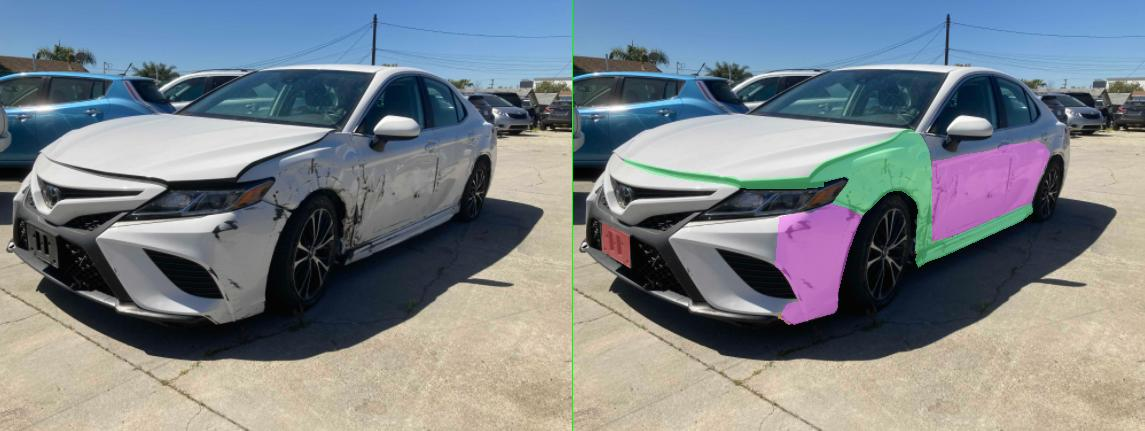Broken part: (468, 129, 725, 251), (685, 203, 919, 267), (102, 158, 500, 188)
Dent: (719, 141, 953, 242), (404, 201, 579, 324)
Missing part: (58, 223, 112, 267)
Paint chip: (422, 220, 476, 239), (719, 189, 745, 227), (544, 191, 568, 221), (863, 156, 883, 192), (687, 225, 709, 253), (703, 200, 717, 226), (757, 174, 771, 197), (721, 164, 733, 189), (619, 157, 633, 176), (458, 279, 482, 290), (410, 314, 436, 324), (416, 268, 436, 279), (825, 191, 841, 199), (450, 294, 462, 301)
